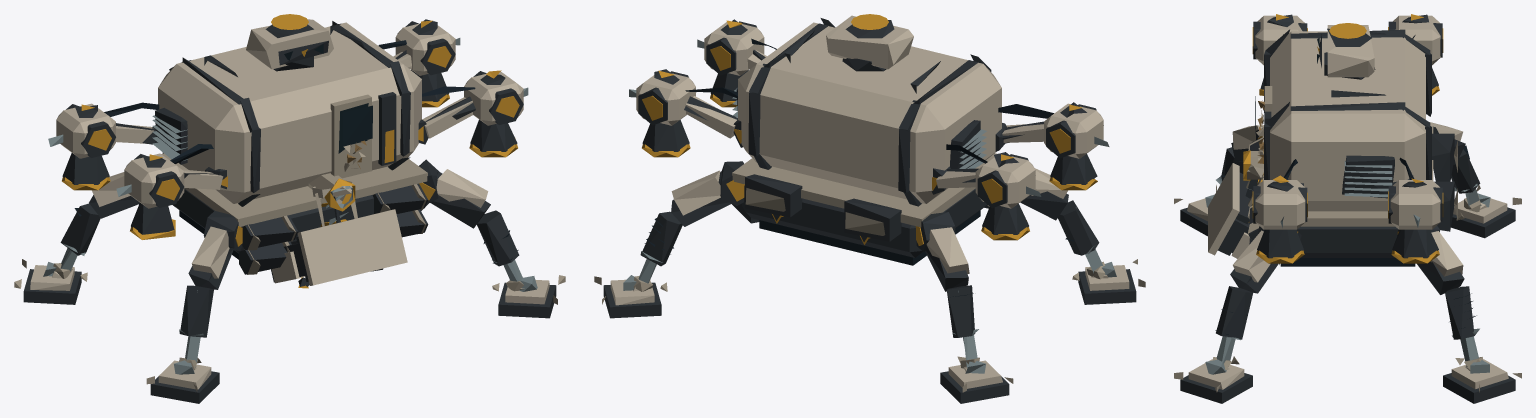
The model's file is sai92_unit_d0_lod2.glb.
The picture shows the model from 3 angles, left to right: view 1: azimuth 30°, elevation 25°; view 2: azimuth 150°, elevation 25°; view 3: azimuth 270°, elevation 25°; orthographic projection.
Parts seen in each view (by area): view 1: SAI92_STATIC_SURFACE; view 2: SAI92_STATIC_SURFACE; view 3: SAI92_STATIC_SURFACE.
Boxes of the visible parts, box(x1,y1,x2,y2) form: SAI92_STATIC_SURFACE: box(14, 14, 565, 403); SAI92_STATIC_SURFACE: box(594, 14, 1145, 403); SAI92_STATIC_SURFACE: box(1174, 14, 1521, 403).
Size of the model in its own units: 6.32 by 3.99 by 4.58.
